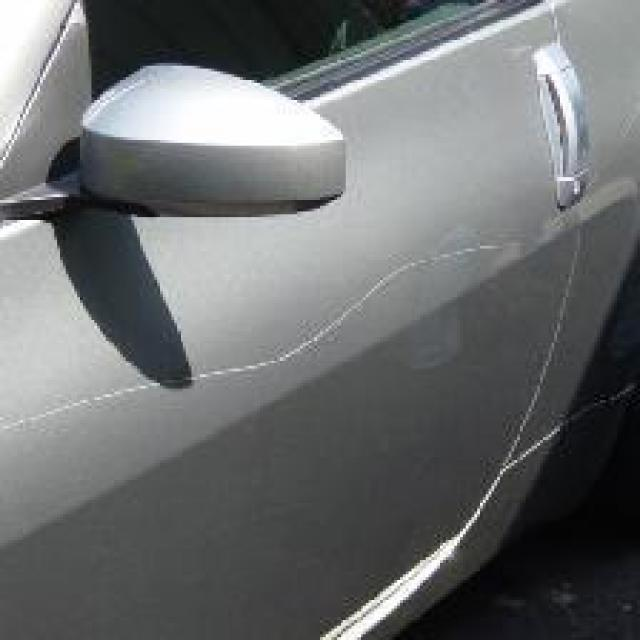damaged: (0, 228, 546, 428)
